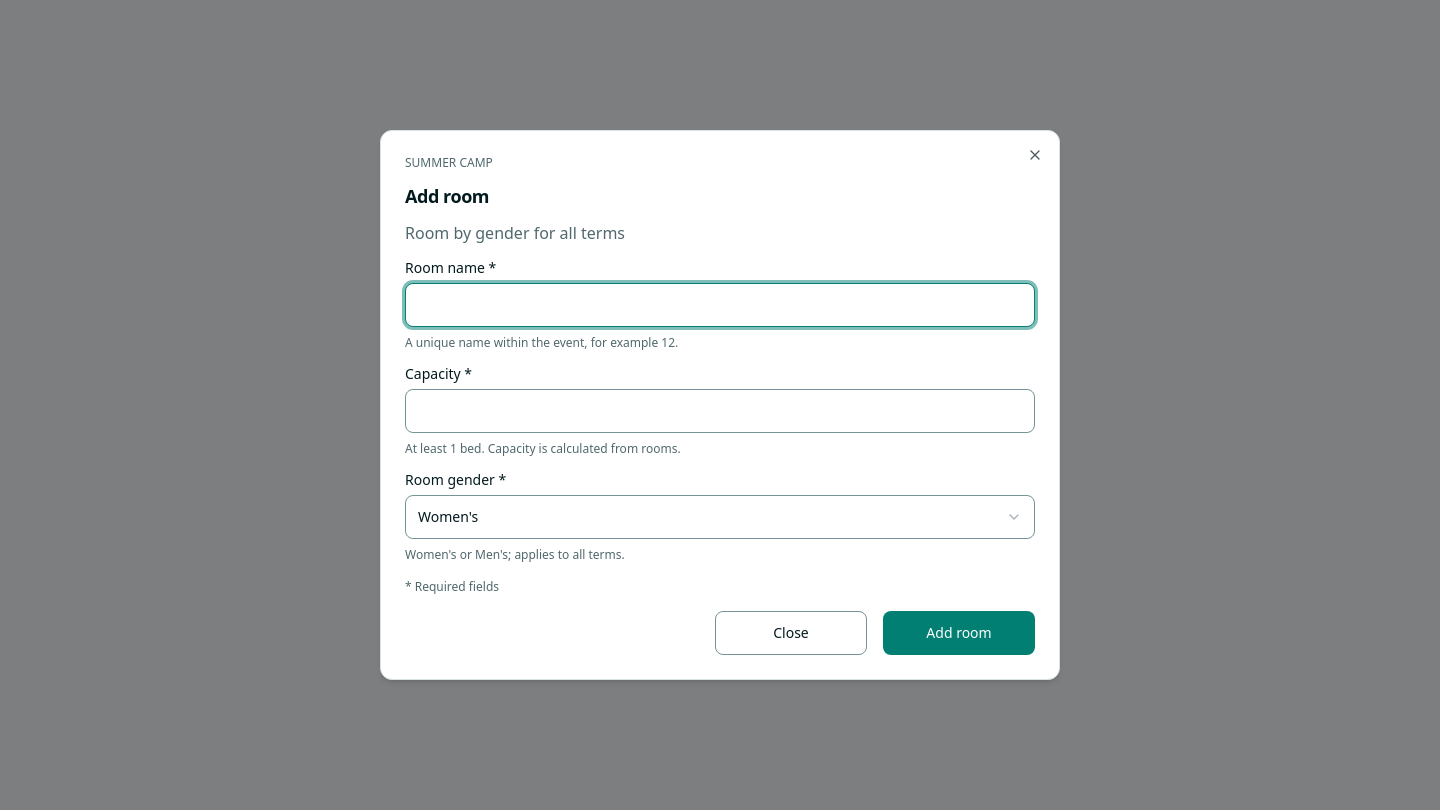
Scenario: room form › blocks duplicate submissions while the request is pending
This screenshot has width=1440, height=810.
Step 1. Type "12" into the field labelled "Room name *" → {"x": 720, "y": 305}, box [405,283,1035,327]
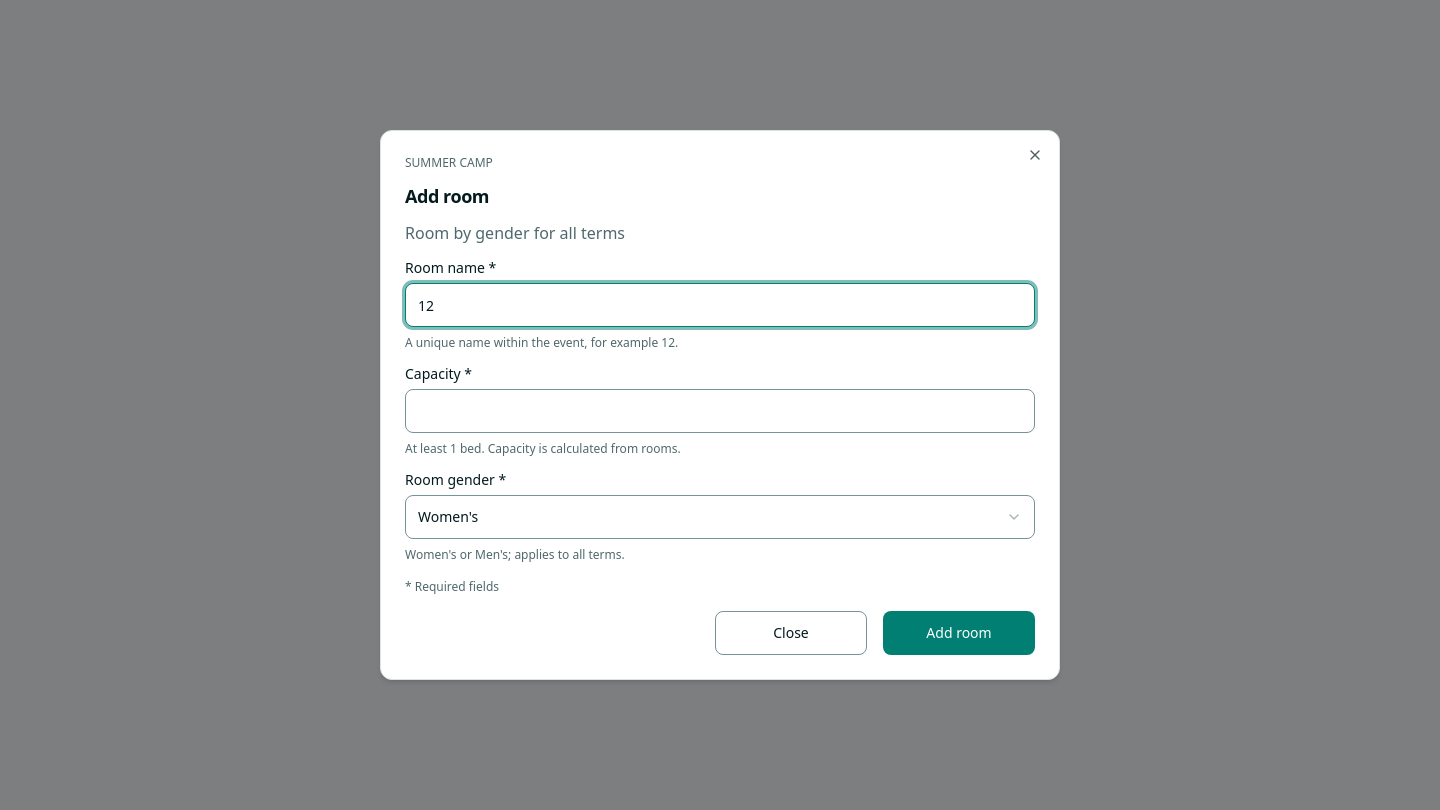
Step 2. Type "100" into the number field labelled "Capacity *" → {"x": 720, "y": 411}, box [405,389,1035,433]
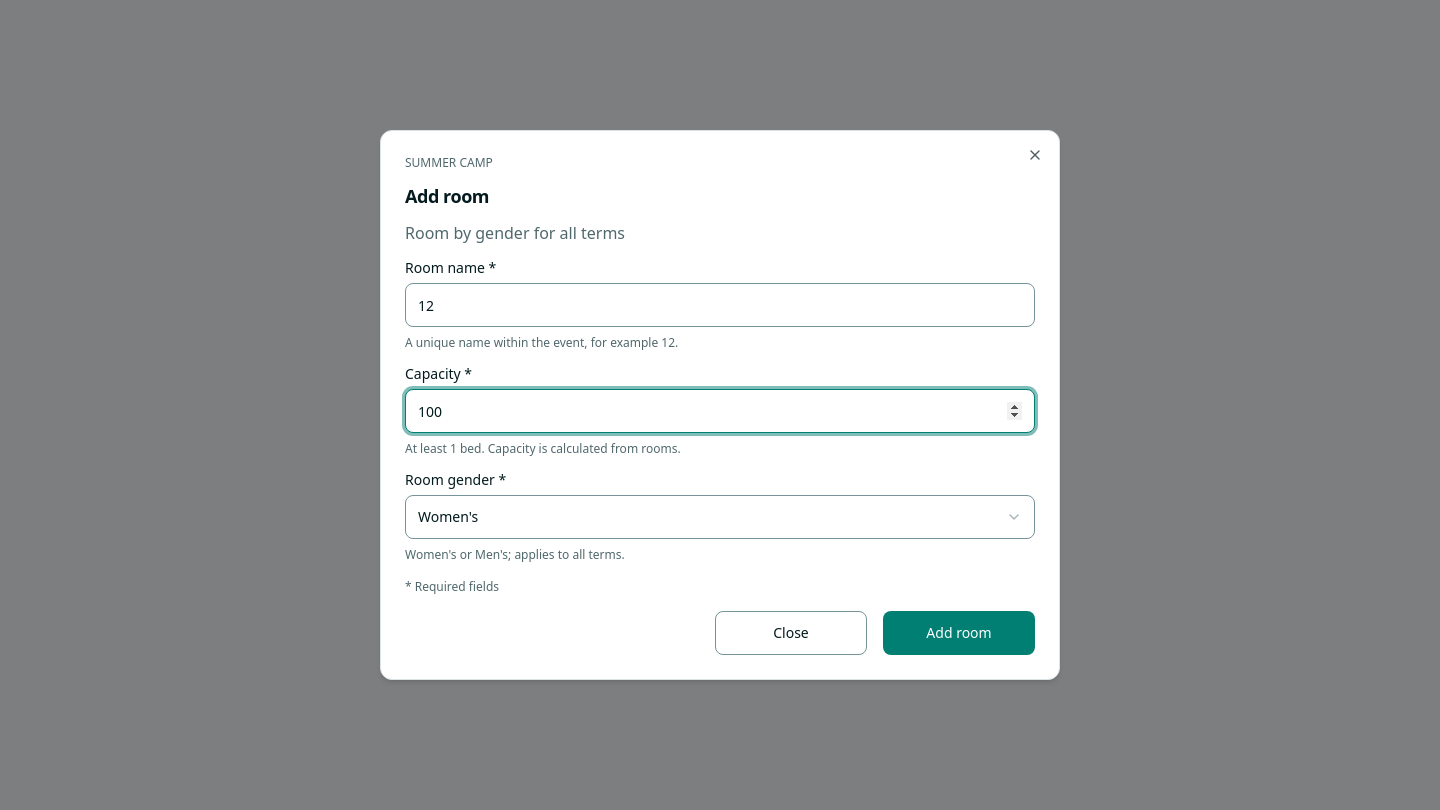
Step 3. Click the button "Add room" → {"x": 959, "y": 633}, box [883,611,1035,655]
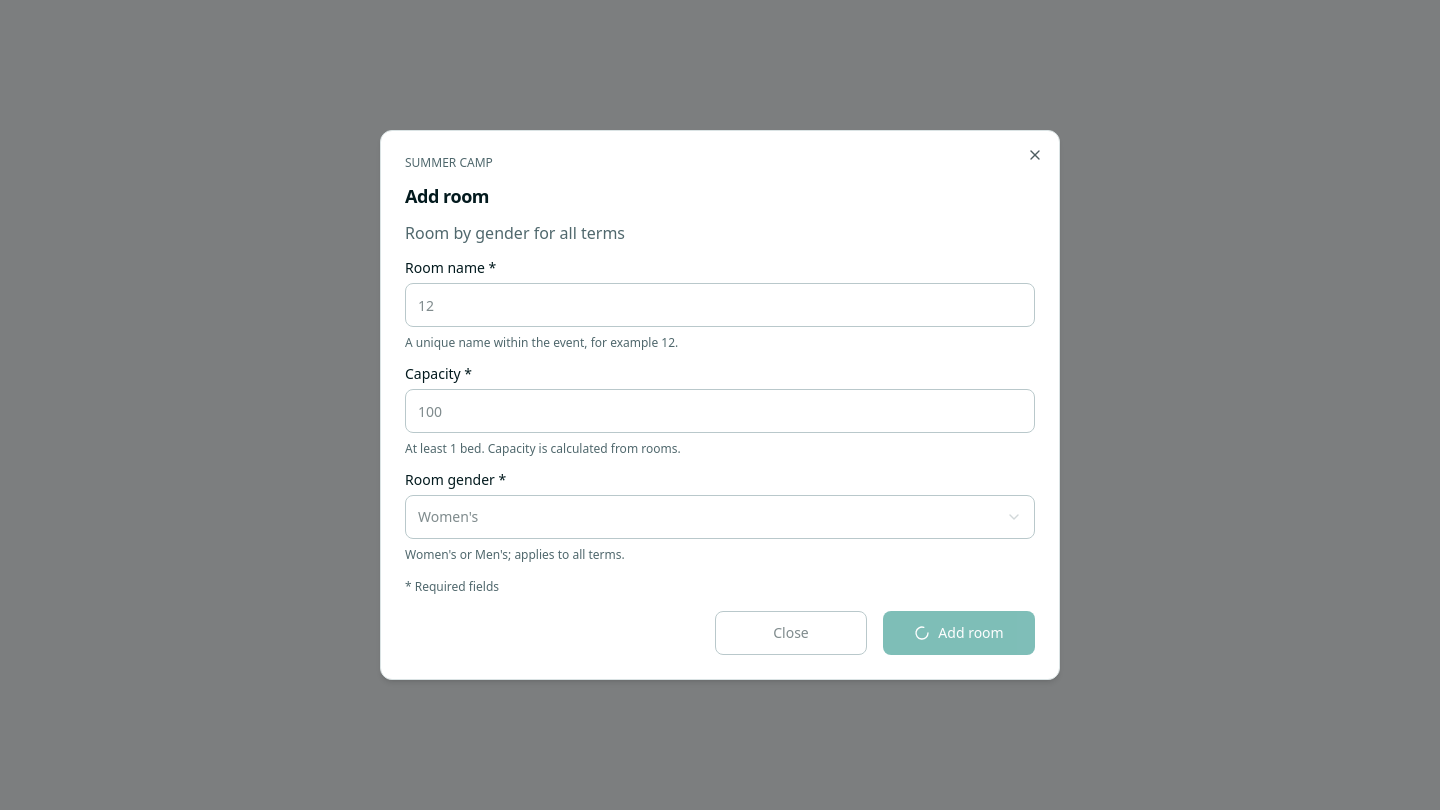
Now the button "Add room" is disabled
Step 4. Click the button "Add room" → {"x": 959, "y": 633}, box [883,611,1035,655]
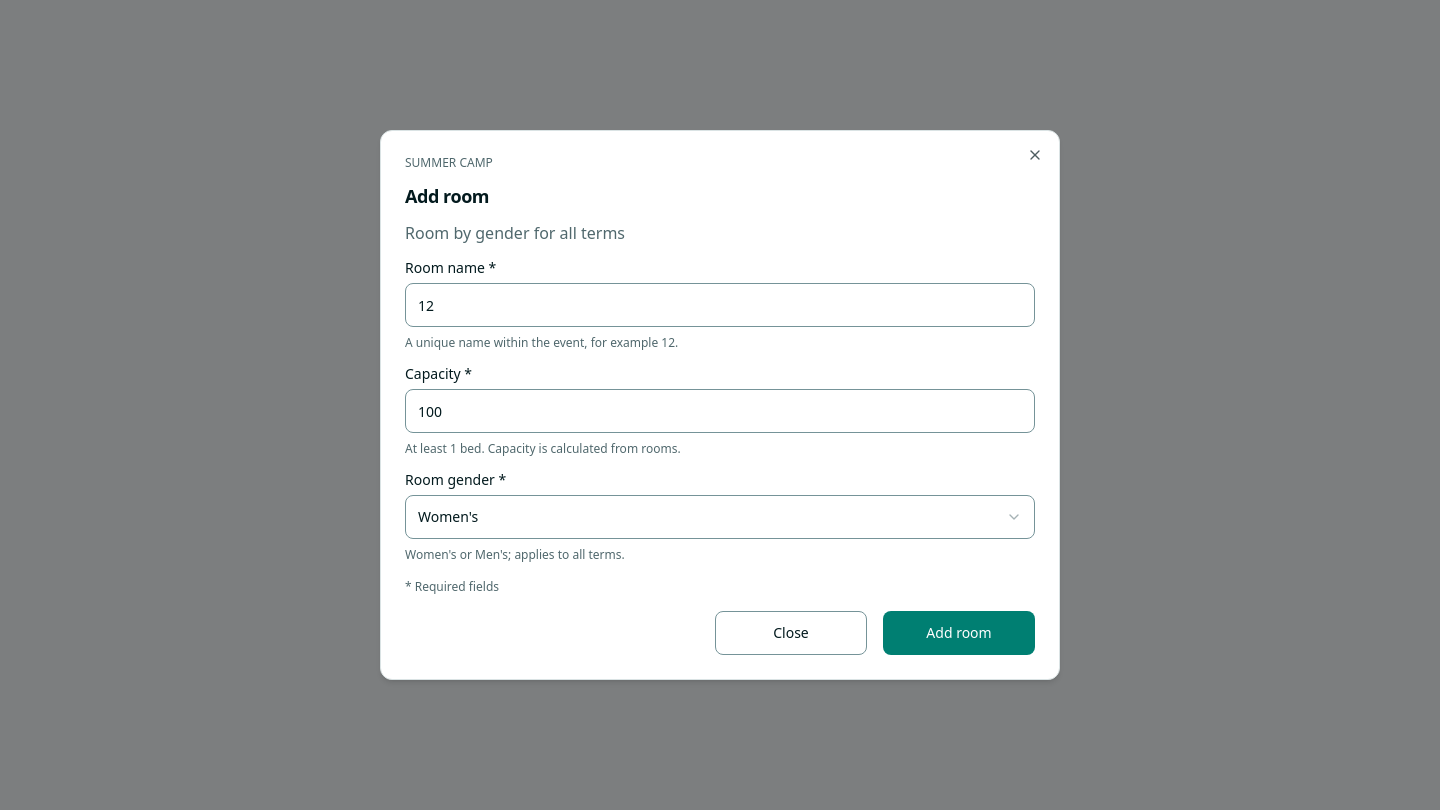
Now the button "Add room" is enabled, box [883,611,1035,655]
